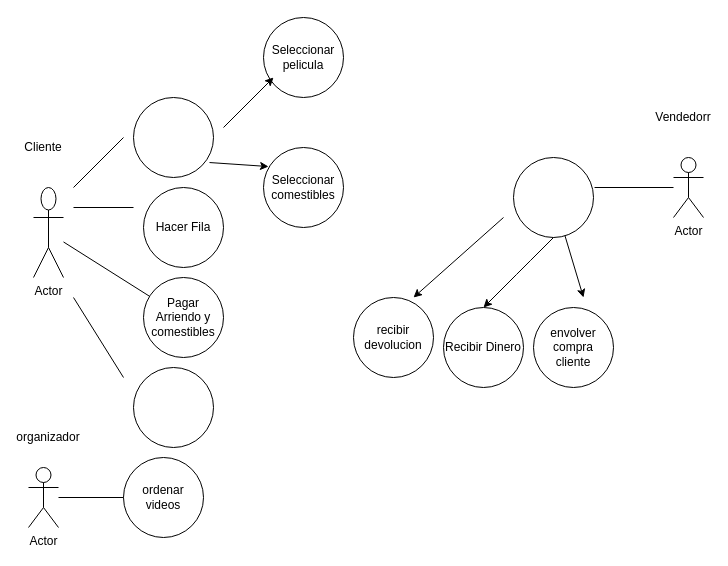
The diagram is 728 pixels wide and 566 high, and some of its shapes have lost their labels. The shapes that lost their labels are listed below. From the top down, each one's centre as x and y in pixels, then its label:
the point at 173,137: elegir productos
the point at 553,197: Atencion Cliente
the point at 173,407: Devolver video
